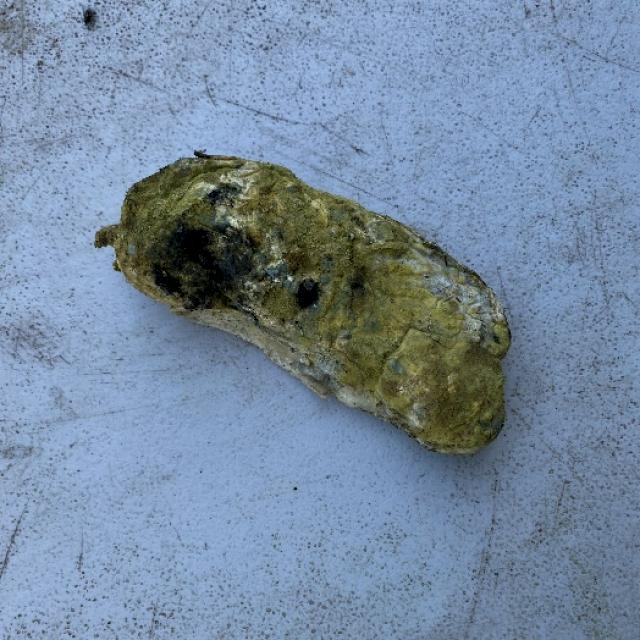wet: (92, 148, 520, 495)
